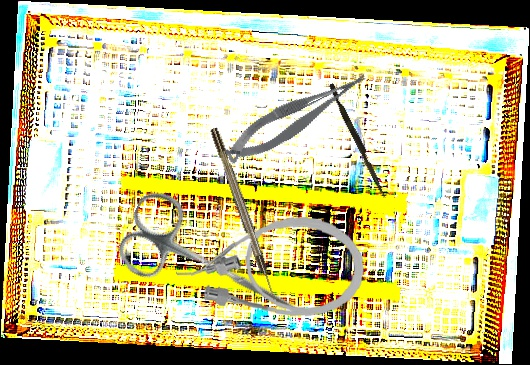Cannula: (173, 208, 368, 321)
Hook Surgical: (209, 126, 279, 302)
Iris Scissors: (109, 184, 320, 347)
Micro Scissor: (217, 67, 377, 169)
Pusher: (325, 83, 391, 199)
